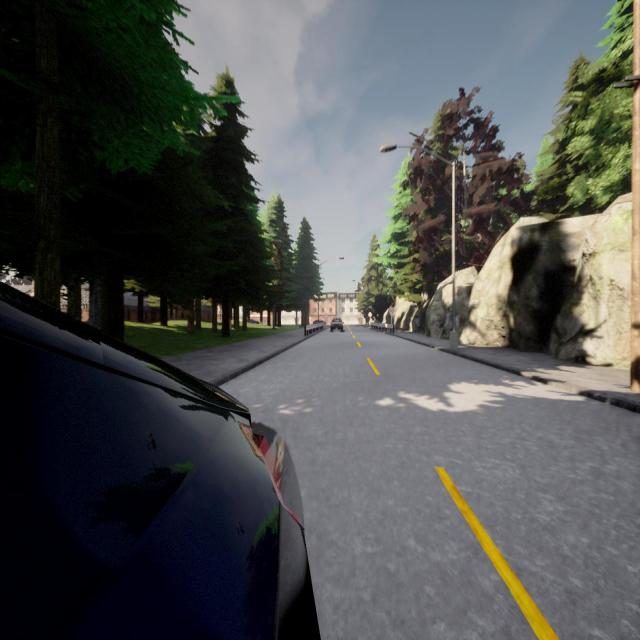Traffic_Signs: (389, 306, 393, 315), (368, 312, 372, 318), (324, 313, 328, 318)
Vehicle: (0, 285, 319, 640), (330, 317, 344, 332), (250, 319, 259, 324)
